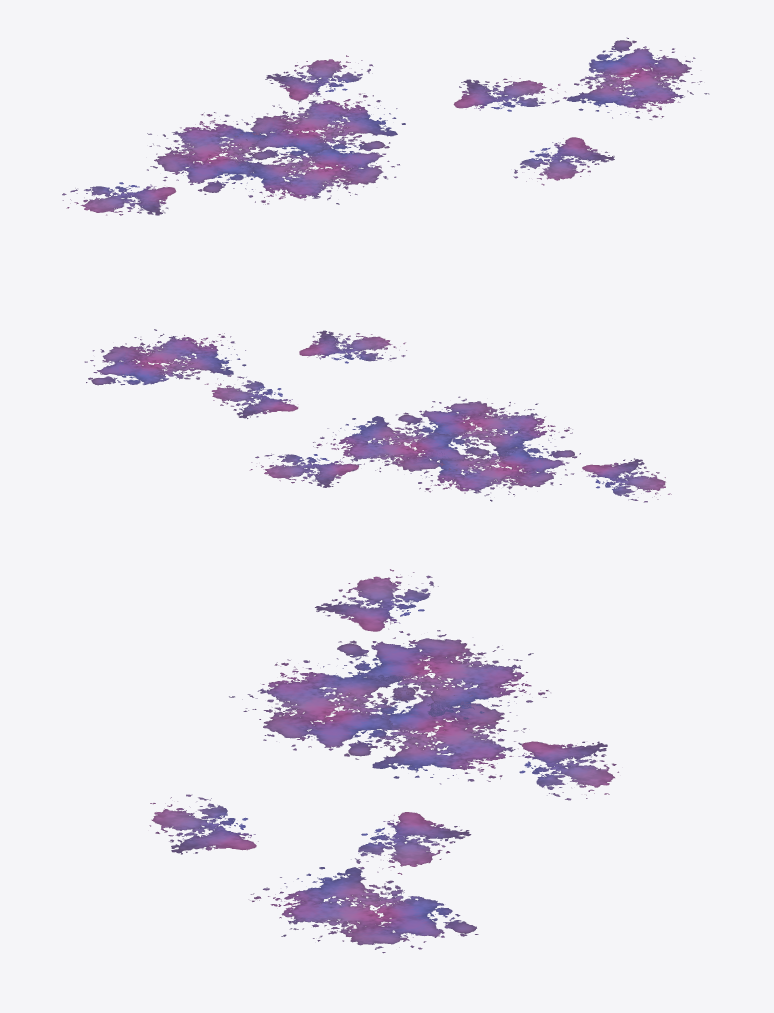
The model's file is MSH_Grass_01.fbx.
3 views of the same model, one above another, from view 1: azimuth 30°, elevation 25°; view 2: azimuth 150°, elevation 25°; view 3: azimuth 270°, elevation 25° (orthographic). The views are drawn at different scales.
Visible parts, largest first — view 1: GrassMoss6; view 2: GrassMoss6; view 3: GrassMoss6.
Part boxes in pixels (box(x1,y1,x2,y2)): GrassMoss6: box(62, 37, 709, 215); GrassMoss6: box(84, 329, 671, 502); GrassMoss6: box(149, 569, 618, 953).
Bounding box in the file's own units: 421 × 0 × 296.
